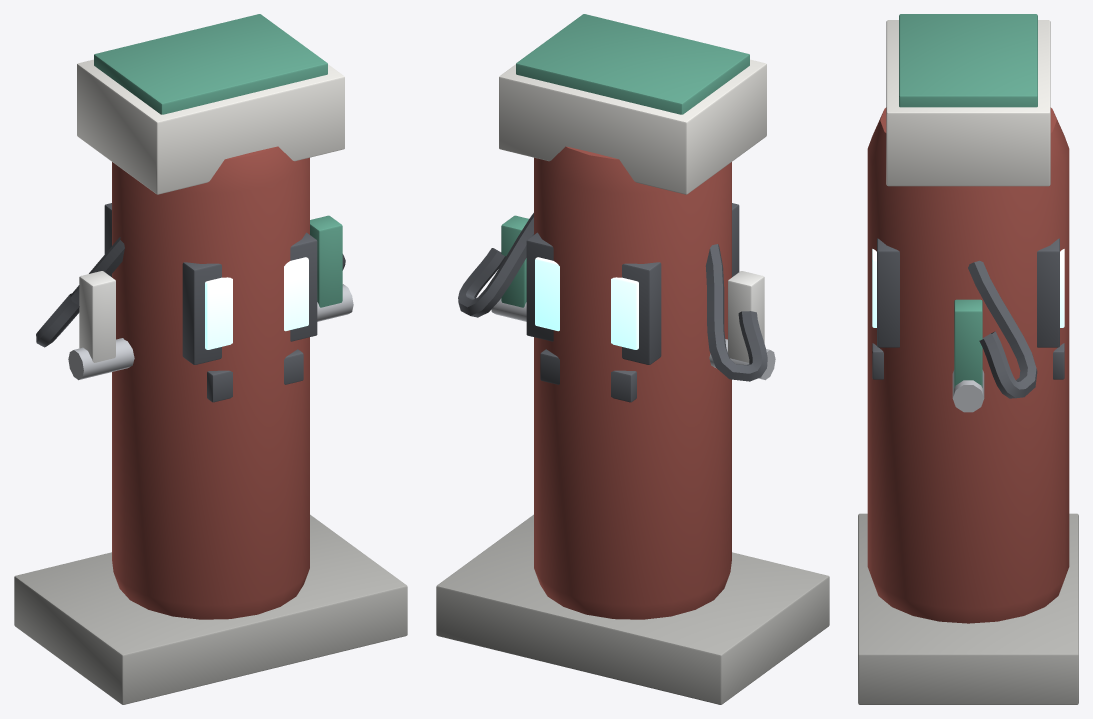
Rendered from th43_zapfsaeule.glb.
3 views of the same model, side by side, from view 1: azimuth 30°, elevation 25°; view 2: azimuth 150°, elevation 25°; view 3: azimuth 270°, elevation 25° (orthographic).
Visible parts, largest first — view 1: Saeule, Cube, Cube.007, Cube.008, Cube.001, Cube.002, Cube.009, Cube.010, Schlauch, Cylinder, Cube.003, Cylinder.001; view 2: Saeule, Cube, Cube.007, Cube.008, Cube.004, Schlauch, Cube.005, Schlauch.001, Cube.009, Cube.006, Cube.010; view 3: Saeule, Cube, Cube.007, Cube.008, Schlauch.001, Cube.010, Cube.001, Cube.004, Cylinder.001, Cube.003, Cube.006, Cube.002 (+1 smaller).
Boxes of the visible parts, x1,y1,x2,y2 form: Saeule: [112, 146, 309, 619]; Cube: [14, 514, 407, 704]; Cube.007: [77, 59, 344, 194]; Cube.008: [94, 14, 327, 114]; Cube.001: [182, 232, 317, 364]; Cube.002: [205, 257, 308, 349]; Cube.009: [79, 271, 115, 362]; Cube.010: [310, 215, 342, 307]; Schlauch: [36, 237, 124, 347]; Cylinder: [68, 338, 134, 380]; Cube.003: [207, 349, 303, 402]; Cylinder.001: [317, 284, 353, 321]; Saeule: [534, 146, 731, 619]; Cube: [436, 514, 829, 704]; Cube.007: [499, 59, 766, 194]; Cube.008: [516, 14, 749, 114]; Cube.004: [526, 232, 661, 364]; Schlauch: [705, 244, 767, 381]; Cube.005: [535, 257, 638, 349]; Schlauch.001: [458, 213, 533, 317]; Cube.009: [728, 271, 764, 362]; Cube.006: [540, 349, 636, 402]; Cube.010: [501, 215, 528, 307]; Saeule: [867, 107, 1069, 623]; Cube: [858, 513, 1078, 704]; Cube.007: [886, 20, 1050, 186]; Cube.008: [899, 14, 1037, 107]; Schlauch.001: [968, 260, 1037, 398]; Cube.010: [954, 299, 982, 387]; Cube.001: [877, 238, 899, 347]; Cube.004: [1037, 238, 1059, 347]; Cylinder.001: [952, 370, 984, 412]; Cube.003: [872, 343, 883, 379]; Cube.006: [1053, 343, 1064, 379]; Cube.002: [872, 249, 876, 327].
Bounding box in the file's own units: 1.14 × 2.03 × 0.7.
